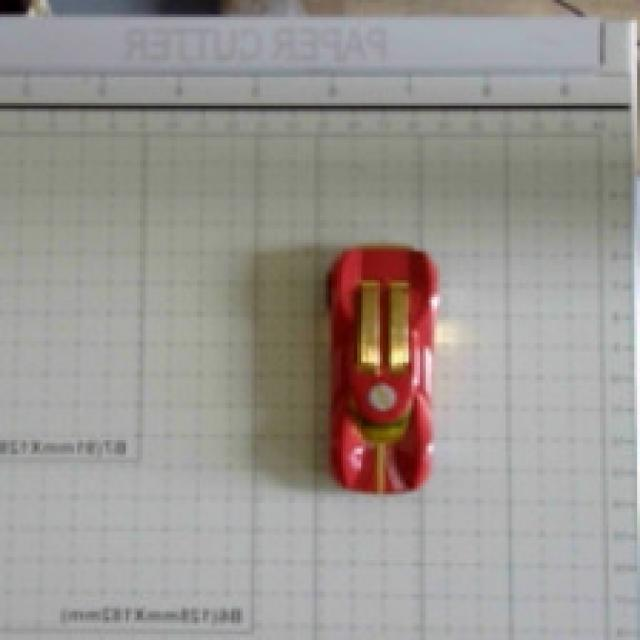Red Car: (288, 184, 488, 511)
